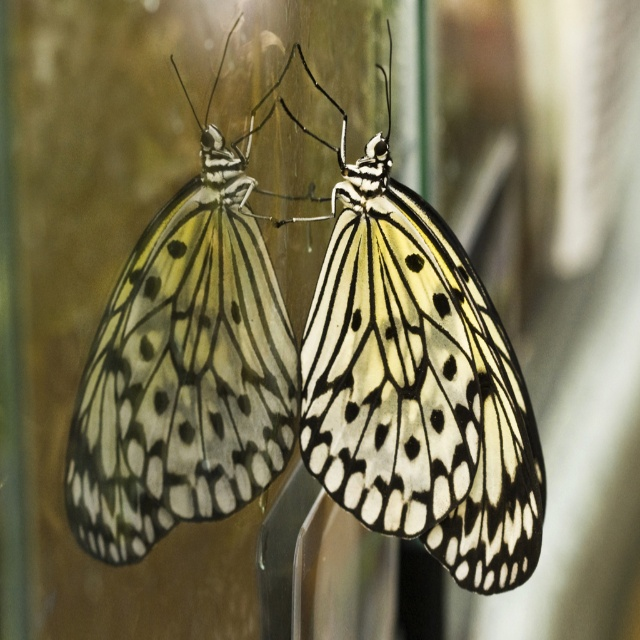Butterfly: (298, 18, 550, 598)
